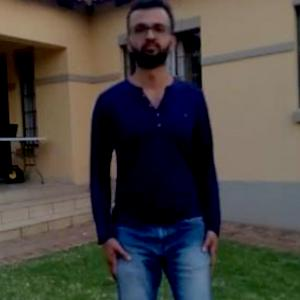follow: (97, 17, 213, 299)
